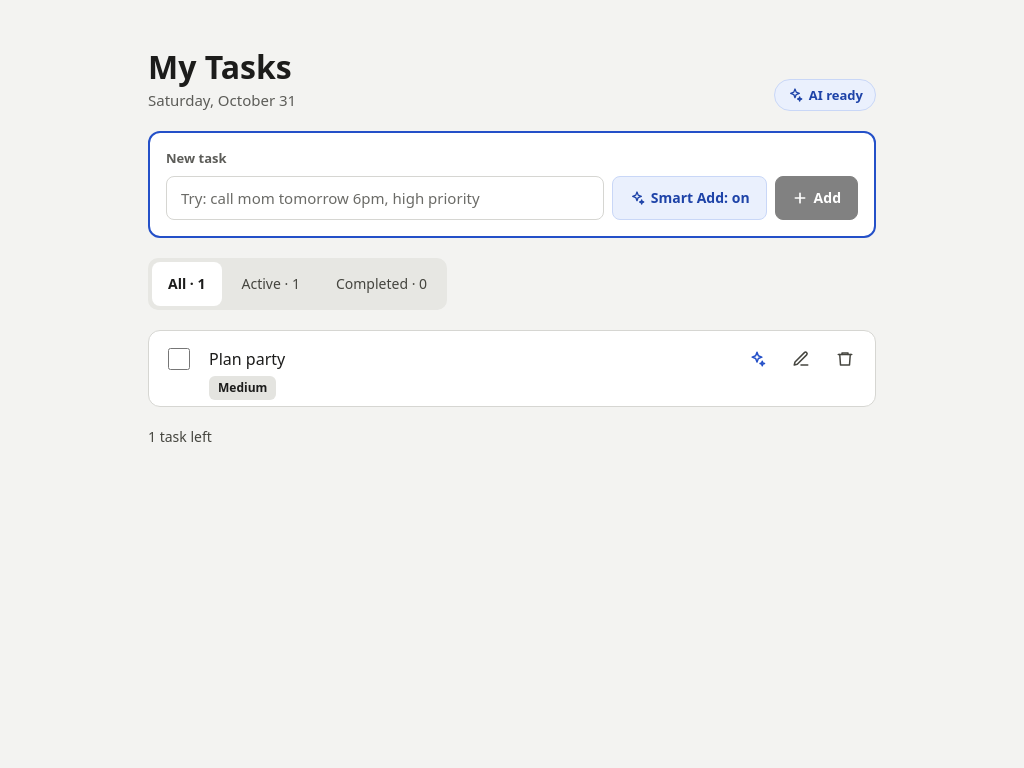
Break it down › adds the ticked suggestions as subtasks
This screenshot has width=1024, height=768.
Click the button named "Break down \"Plan party\" with AI": coordinates (757, 359) [735,337,779,381]
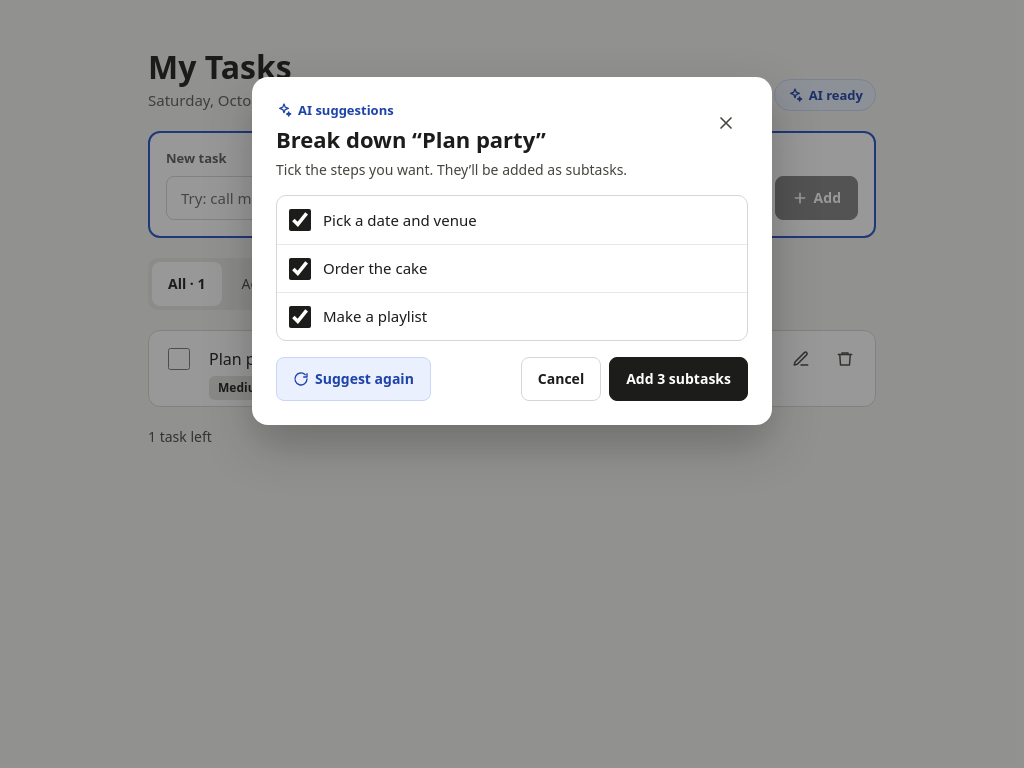
Click the checkbox labelled "Make a playlist": coordinates (300, 317) [289,306,311,328]
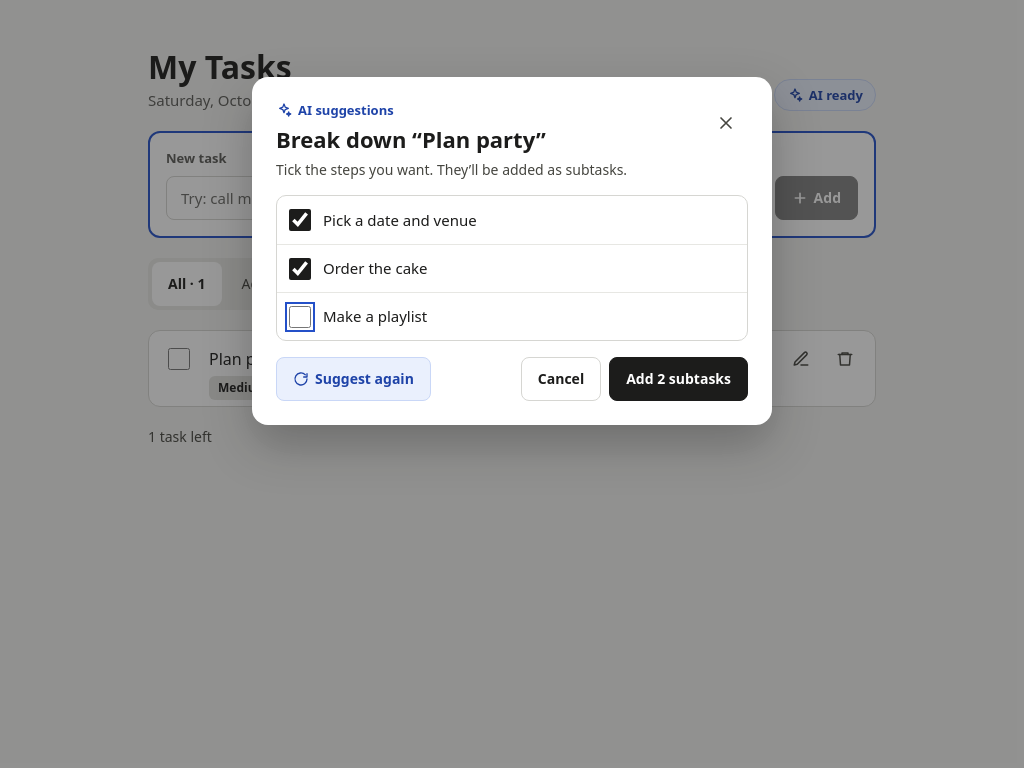
Click the button "Add 2 subtasks": coordinates (679, 379) [609,357,748,401]
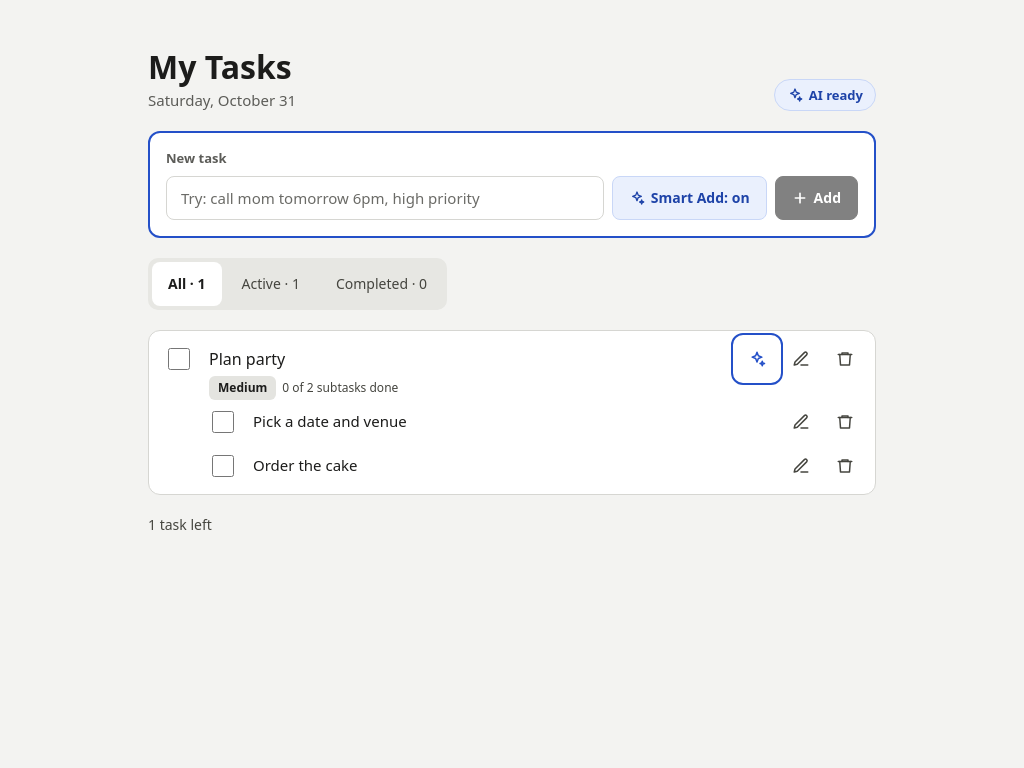
Result: the dialog is gone
Result: the checkbox named "Pick a date and venue" is shown at [212,411,234,433]
Result: the checkbox named "Order the cake" is shown at [212,455,234,477]
